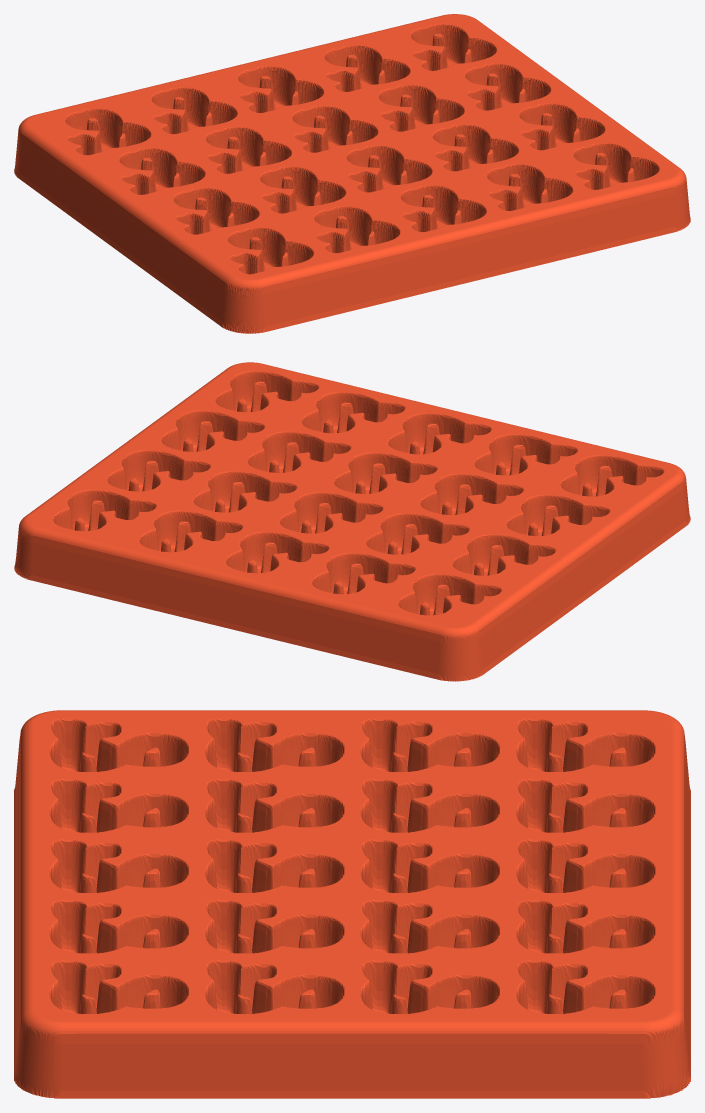
Rendered from mold.glb.
3 views of the same model, one above another, from view 1: azimuth 30°, elevation 25°; view 2: azimuth 150°, elevation 25°; view 3: azimuth 270°, elevation 25° (orthographic). The views are drawn at different scales.
Parts seen in each view (by area): view 1: geometry_0; view 2: geometry_0; view 3: geometry_0.
Part boxes in pixels (<box>): geometry_0: <box>14,14,690,333</box>; geometry_0: <box>14,362,690,681</box>; geometry_0: <box>14,710,690,1098</box>.
Bounding box in the file's own units: 0.1454 × 0.0145 × 0.1278.
